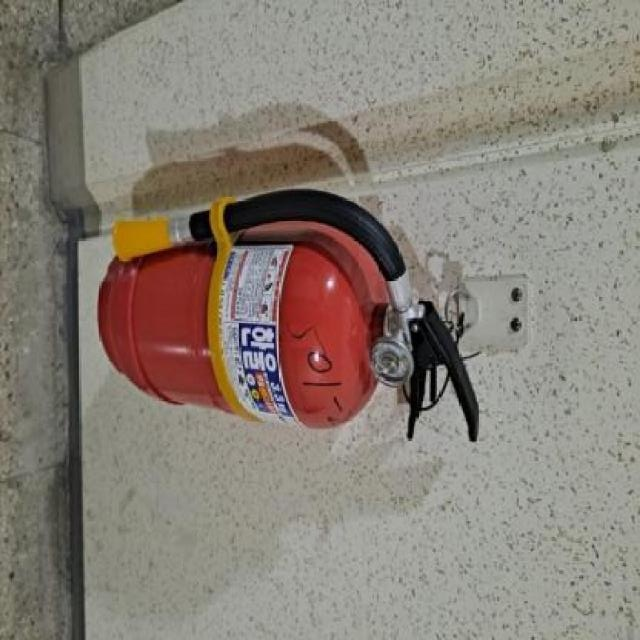fire extinguisher: (97, 188, 480, 444)
